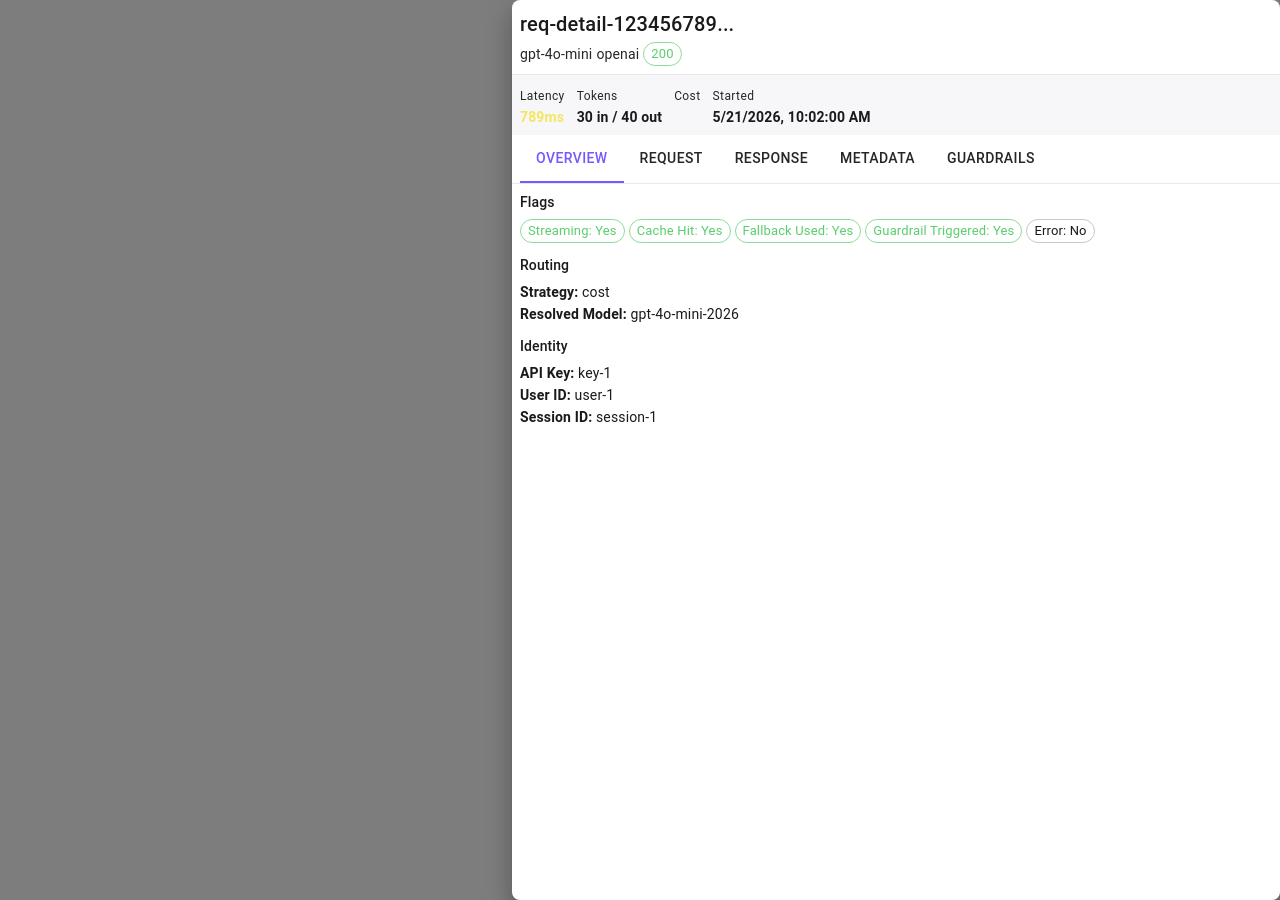
Test: RequestDetailDrawer › renders canonical snake_case details and exposes guardrail tab
The width and height of the screenshot is (1280, 900).
Expected: the text "789ms" is shown, [520,107,565,127]
Expected: the text "30 in / 40 out" is shown, [577,107,662,127]
Click the tab "Request" at (671,159), box [624,135,719,183]
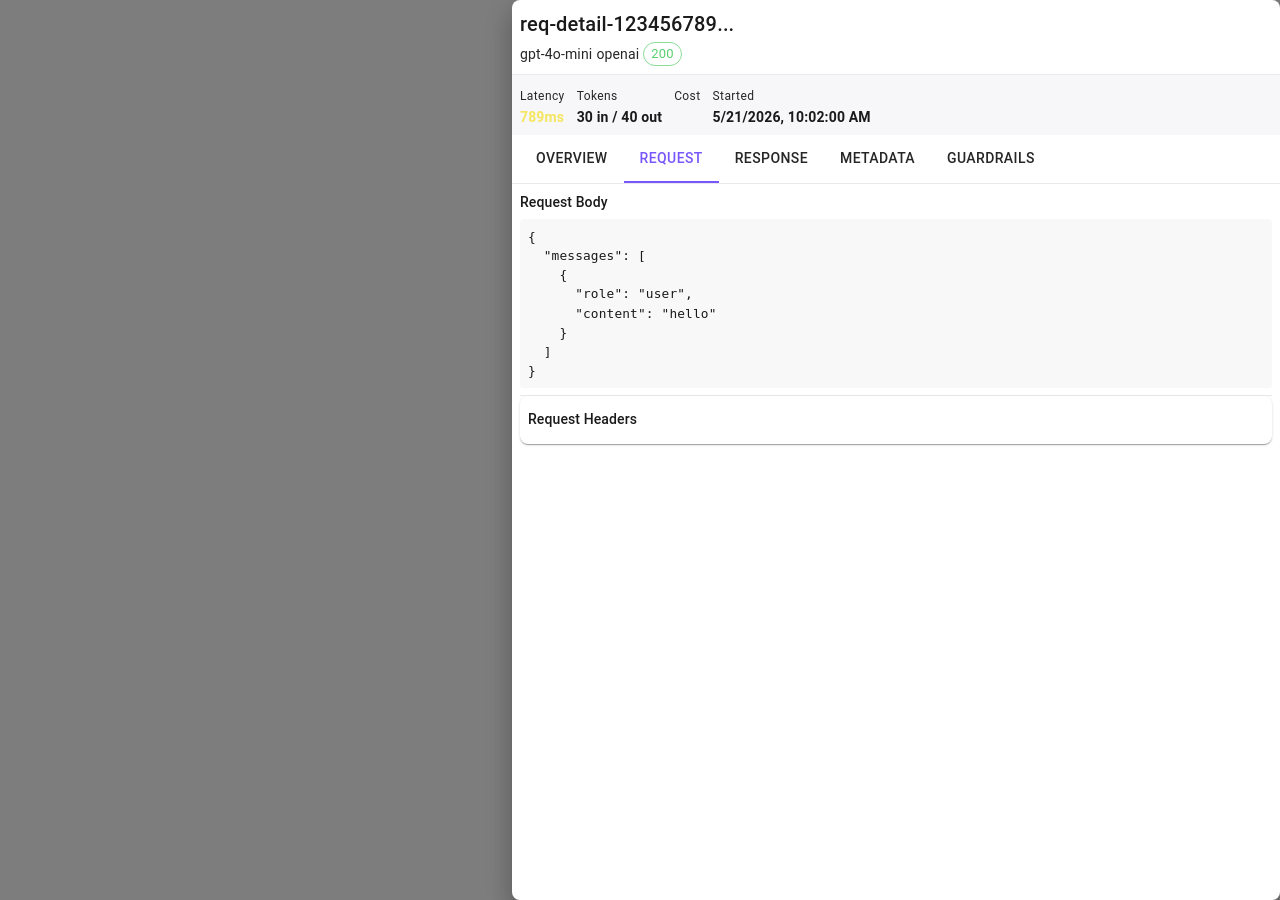
Now the text "{ \"messages\": [ { \"role\": \"user\", \"content\": \"hello\" } ] }" is shown, box [528,229,716,378]
Now the heading "Request Headers" is shown, box [528,409,637,431]
Click the tab "Guardrails" at (991,159), box [931,135,1051,183]
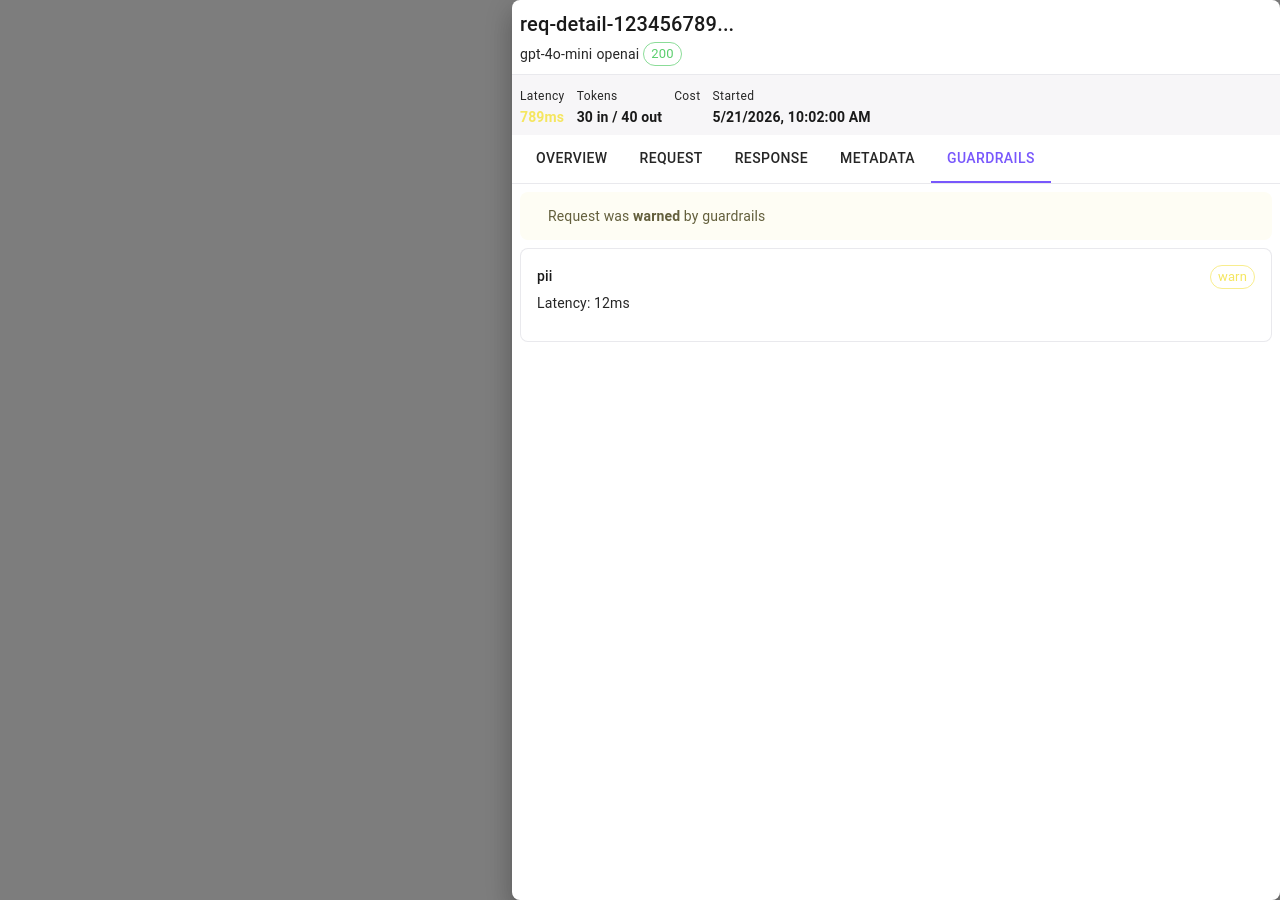
Now the text "warned" is shown, box [633,208,680,224]
Now the heading "pii" is shown, box [537,266,552,288]
Now the text "Latency: 12ms" is shown, box [537,295,630,311]
